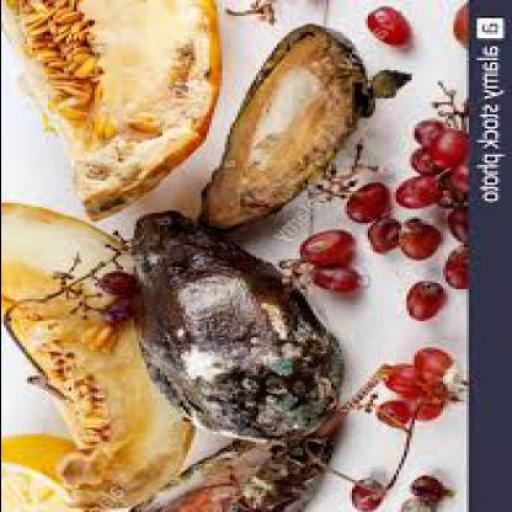biodegradable: (1, 200, 190, 510), (125, 205, 335, 441), (1, 0, 217, 219), (124, 364, 388, 510), (195, 22, 361, 233), (1, 428, 75, 511), (297, 226, 353, 264), (392, 217, 440, 257), (361, 4, 406, 44), (392, 172, 442, 207), (343, 181, 387, 219), (398, 383, 444, 418), (402, 280, 442, 318), (410, 345, 448, 382), (424, 129, 460, 168), (306, 263, 356, 291), (382, 361, 422, 393), (366, 215, 398, 253), (98, 293, 140, 321), (348, 476, 380, 510), (439, 245, 463, 287), (372, 400, 408, 426), (405, 474, 442, 498), (93, 271, 133, 293), (442, 201, 463, 241), (405, 149, 437, 175), (444, 155, 463, 195), (410, 118, 436, 143), (450, 0, 462, 48)
